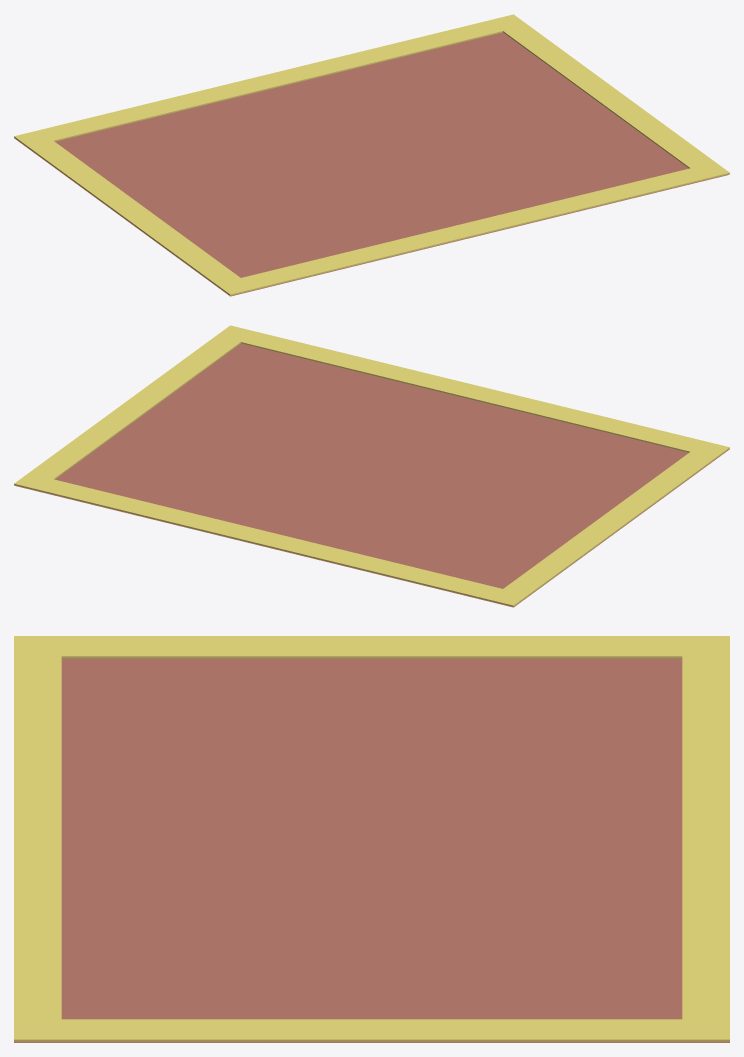
Rendered from rug.glb.
3 views of the same model, one above another, from view 1: azimuth 30°, elevation 25°; view 2: azimuth 150°, elevation 25°; view 3: azimuth 270°, elevation 25° (orthographic). The views are drawn at different scales.
Visible parts, largest first — view 1: rug_body, trim_back, trim_front, trim_right, trim_left; view 2: rug_body, trim_front, trim_back, trim_right, trim_left; view 3: rug_body, trim_back, trim_front, trim_left, trim_right.
Part boxes in pixels (x1,y1,x2,y2): rug_body: (14,32,729,296); trim_back: (14,14,527,147); trim_front: (216,168,729,295); trim_right: (489,15,729,178); trim_left: (19,132,254,295); rug_body: (14,343,729,607); trim_front: (216,325,729,452); trim_back: (14,479,527,606); trim_right: (14,325,254,490); trim_left: (488,443,728,606); rug_body: (14,658,729,1042); trim_back: (682,636,729,1041); trim_front: (14,636,61,1041); trim_left: (14,636,729,658); trim_right: (14,1019,729,1041).
Bounding box in the file's own units: 2 × 0.0075 × 1.5.
